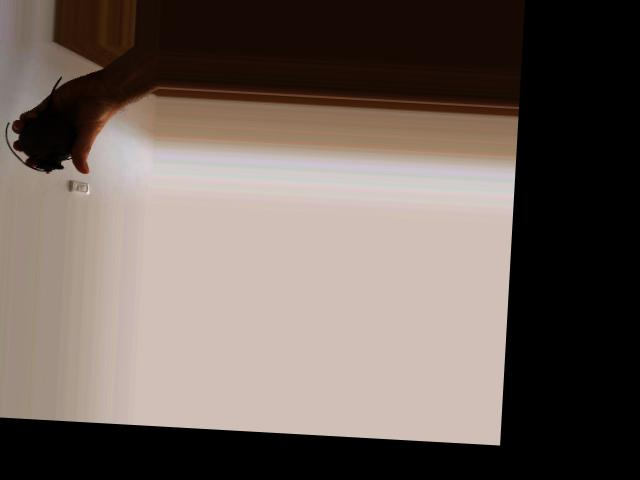beet: (2, 73, 76, 174)
